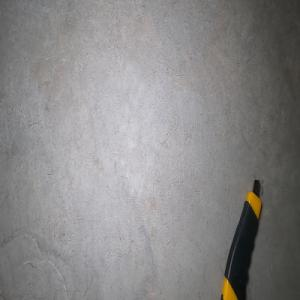Cutter: (219, 177, 262, 300)
